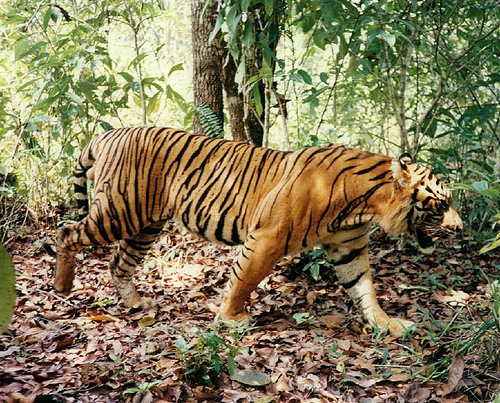Tigre: (71, 114, 463, 355)
